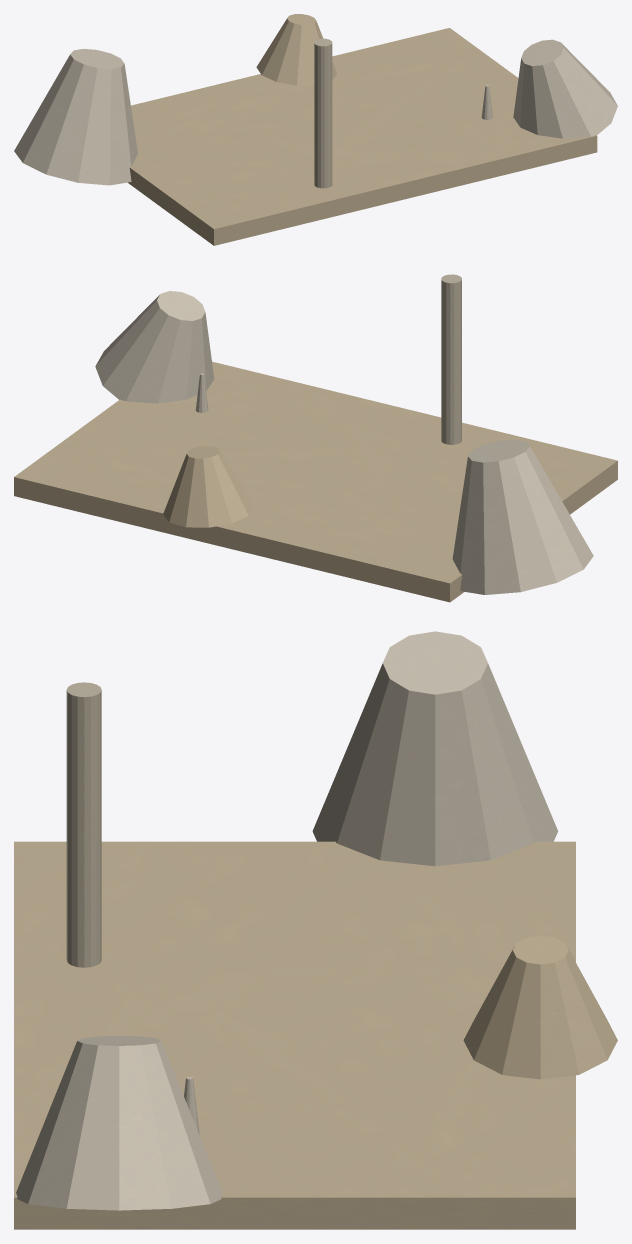
Rendered from howling-sprawl.glb.
3 views of the same model, one above another, from view 1: azimuth 30°, elevation 25°; view 2: azimuth 150°, elevation 25°; view 3: azimuth 270°, elevation 25° (orthographic). The views are drawn at different scales.
Visible parts, largest first — view 1: sprawl-cracked-ground, sprawl-windrock-0, sprawl-windrock-1, sprawl-windrock-2, sprawl-flank-marker; view 2: sprawl-cracked-ground, sprawl-windrock-0, sprawl-windrock-1, sprawl-windrock-2, sprawl-flank-marker; view 3: sprawl-cracked-ground, sprawl-windrock-0, sprawl-windrock-1, sprawl-windrock-2, sprawl-flank-marker.
Boxes of the visible parts, box(x1,y1,x2,y2) form: sprawl-cracked-ground: box(128, 28, 597, 245); sprawl-windrock-0: box(14, 49, 137, 185); sprawl-windrock-1: box(513, 39, 617, 138); sprawl-windrock-2: box(256, 14, 336, 85); sprawl-flank-marker: box(314, 38, 332, 188); sprawl-cracked-ground: box(14, 361, 617, 602); sprawl-windrock-0: box(452, 439, 593, 594); sprawl-windrock-1: box(95, 291, 214, 403); sprawl-windrock-2: box(163, 446, 254, 527); sprawl-flank-marker: box(441, 274, 461, 444); sprawl-cracked-ground: box(14, 841, 575, 1229); sprawl-windrock-0: box(312, 631, 558, 866); sprawl-windrock-1: box(16, 1035, 222, 1210); sprawl-windrock-2: box(463, 935, 617, 1079); sprawl-flank-marker: box(66, 682, 101, 967).
Size of the model in its own units: 3.16 by 0.9662 by 1.72.
3 materials, 3 textured.
